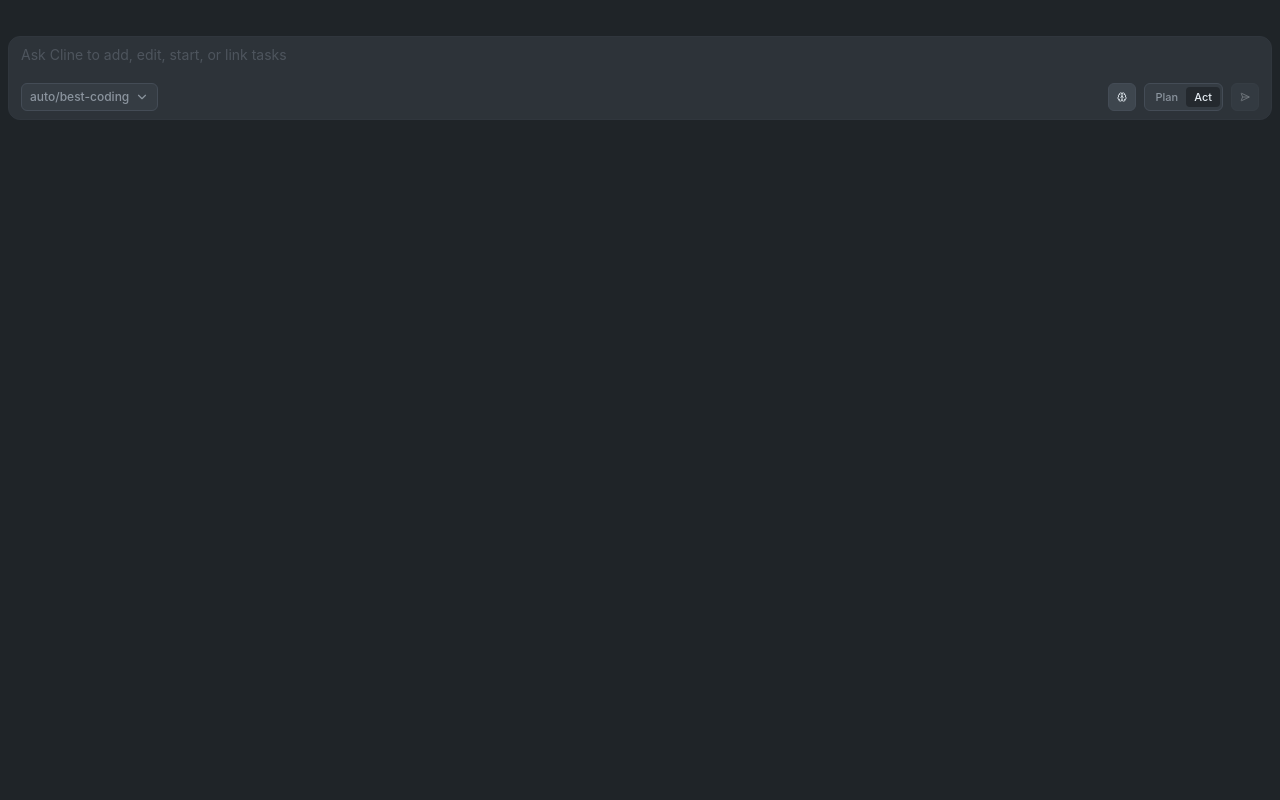
Test case: ClineAgentChatPanel model switching › surfaces a failed live switch instead of leaving the picker looking applied
Click the button with id "cline-chat-model-picker" at [90, 97], box [21, 83, 158, 111]
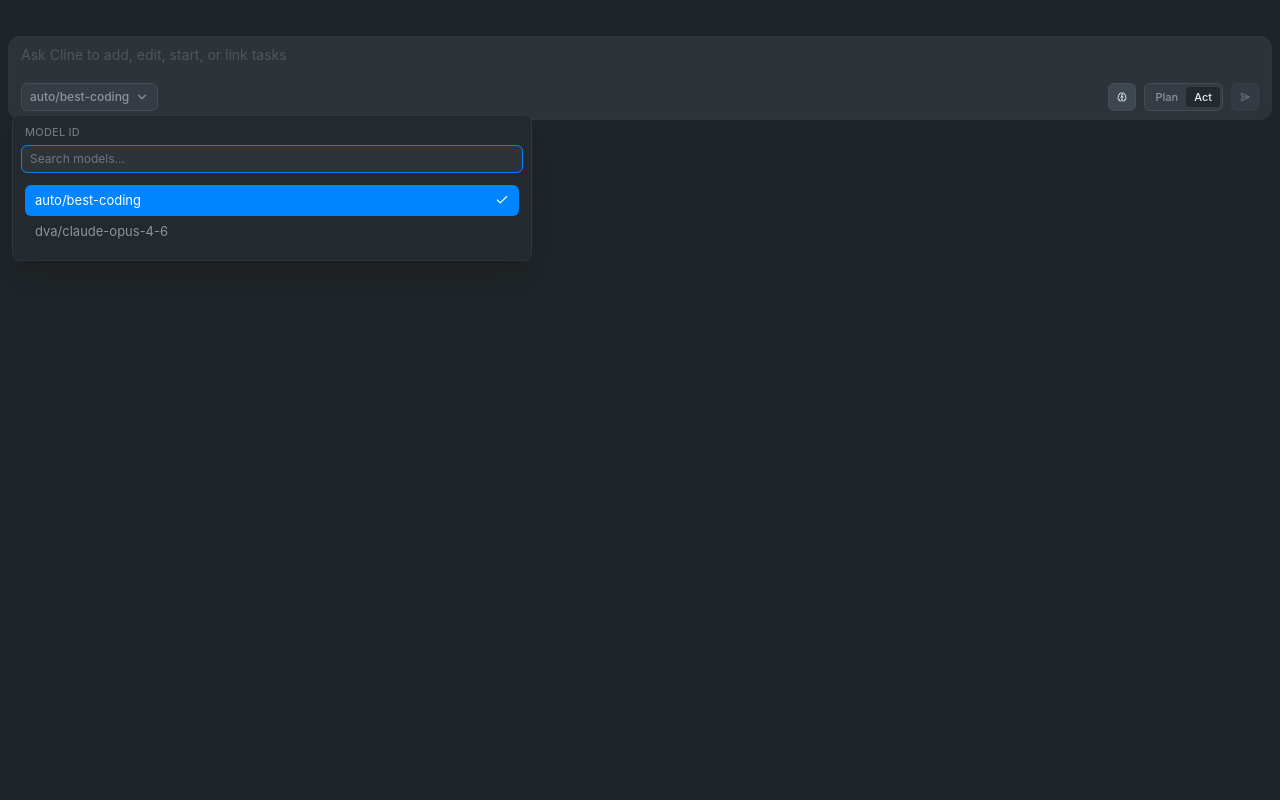
Click the button "dva/claude-opus-4-6" at [102, 231], box [25, 216, 519, 248]
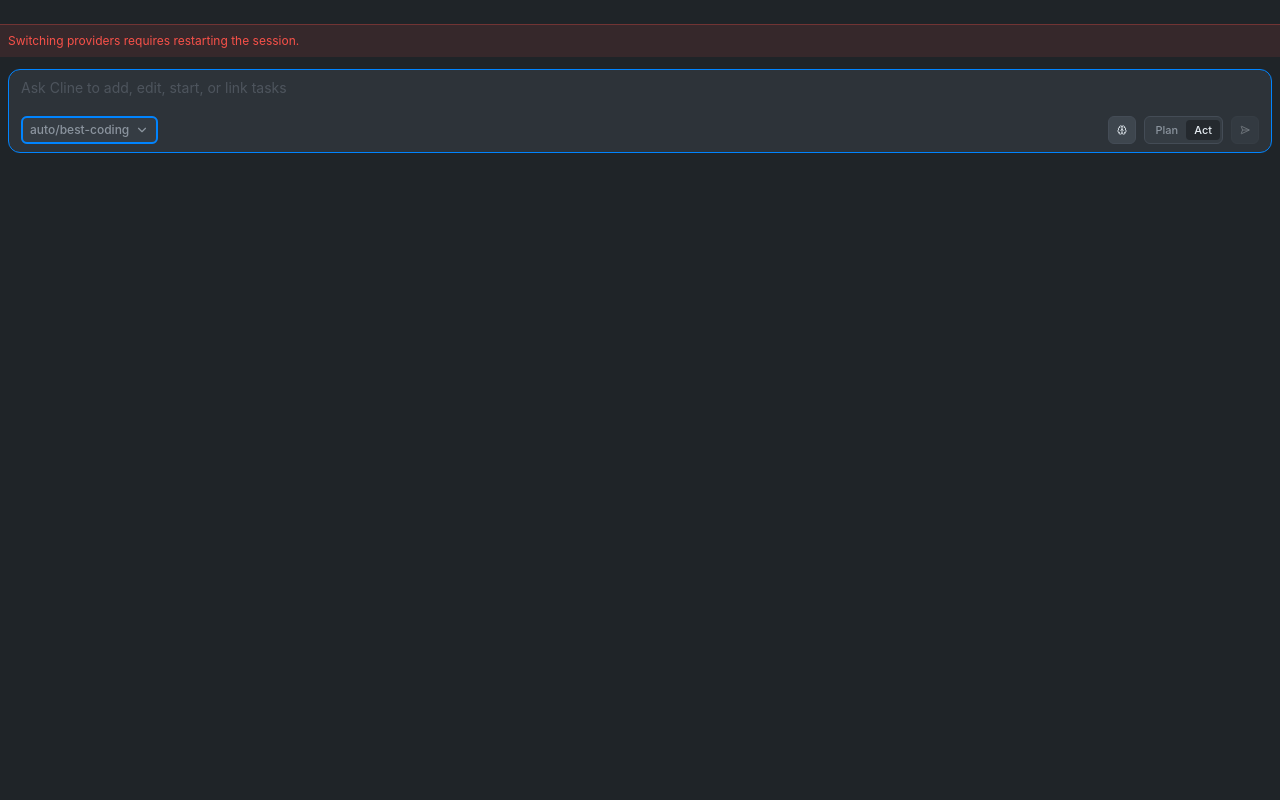
Check: the text "Switching providers requires restarting the session." is shown, box [0, 24, 1279, 57]
